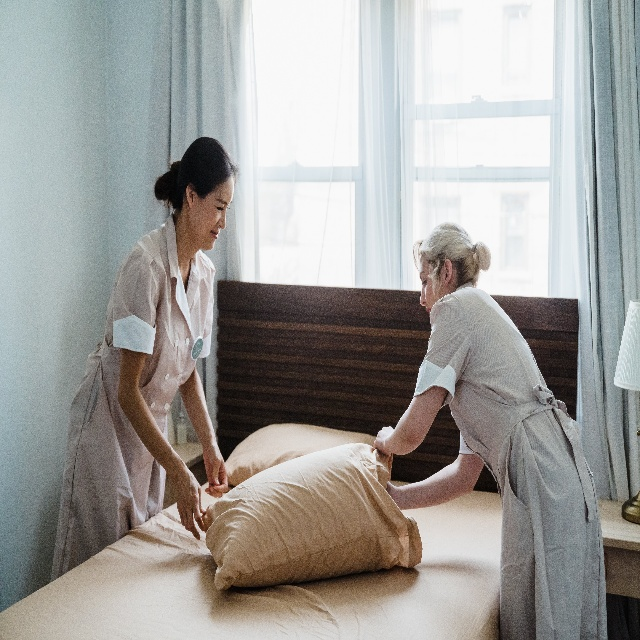Sin_guantes: (177, 463, 207, 541), (202, 449, 227, 500), (374, 428, 392, 453)
